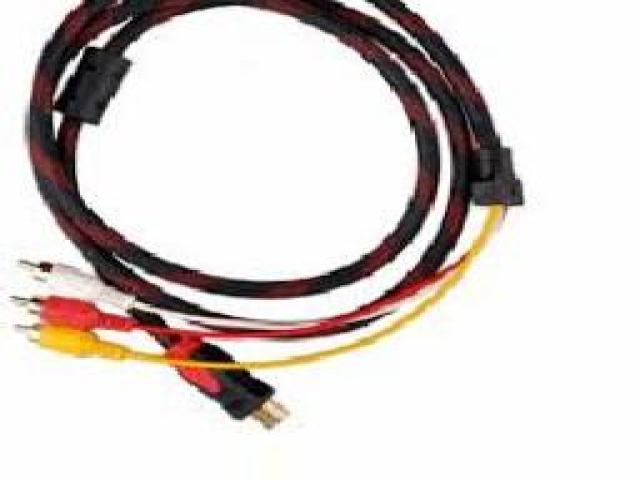wire: (20, 0, 522, 427)
